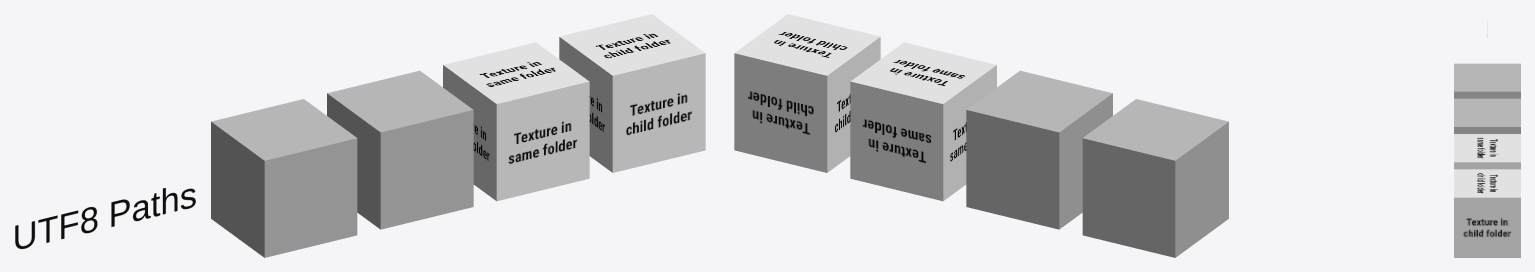
Rendered from RelativeTexturePaths.gltf.
The picture shows the model from 3 angles, left to right: view 1: azimuth 30°, elevation 25°; view 2: azimuth 150°, elevation 25°; view 3: azimuth 270°, elevation 25°; orthographic projection. The views are drawn at different scales.
Visible parts, largest first — view 1: AbsolutePath, SameFolderAsGltf, SubFolderOfGltf, ParentFolderOfGltf, Text (TMP); view 2: AbsolutePath, SameFolderAsGltf, SubFolderOfGltf, ParentFolderOfGltf; view 3: SubFolderOfGltf, SameFolderAsGltf, ParentFolderOfGltf, AbsolutePath.
Boxes of the visible parts, <box> form: AbsolutePath: <box>211,99,357,257</box>; SameFolderAsGltf: <box>443,42,589,201</box>; SubFolderOfGltf: <box>559,14,705,172</box>; ParentFolderOfGltf: <box>327,70,473,229</box>; Text (TMP): <box>15,188,195,248</box>; AbsolutePath: <box>1082,99,1228,257</box>; SameFolderAsGltf: <box>850,42,996,201</box>; SubFolderOfGltf: <box>734,14,880,172</box>; ParentFolderOfGltf: <box>966,70,1112,229</box>; SubFolderOfGltf: <box>1454,169,1520,257</box>; SameFolderAsGltf: <box>1454,134,1520,169</box>; ParentFolderOfGltf: <box>1454,98,1520,133</box>; AbsolutePath: <box>1454,63,1520,98</box>.
Bounding box in the file's own units: 7.16 × 1 × 1.
